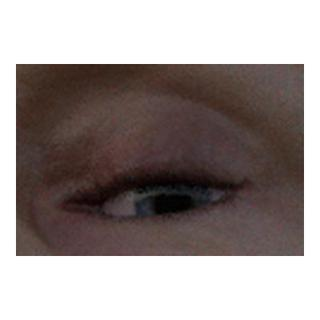pupil: (156, 188, 189, 220)
